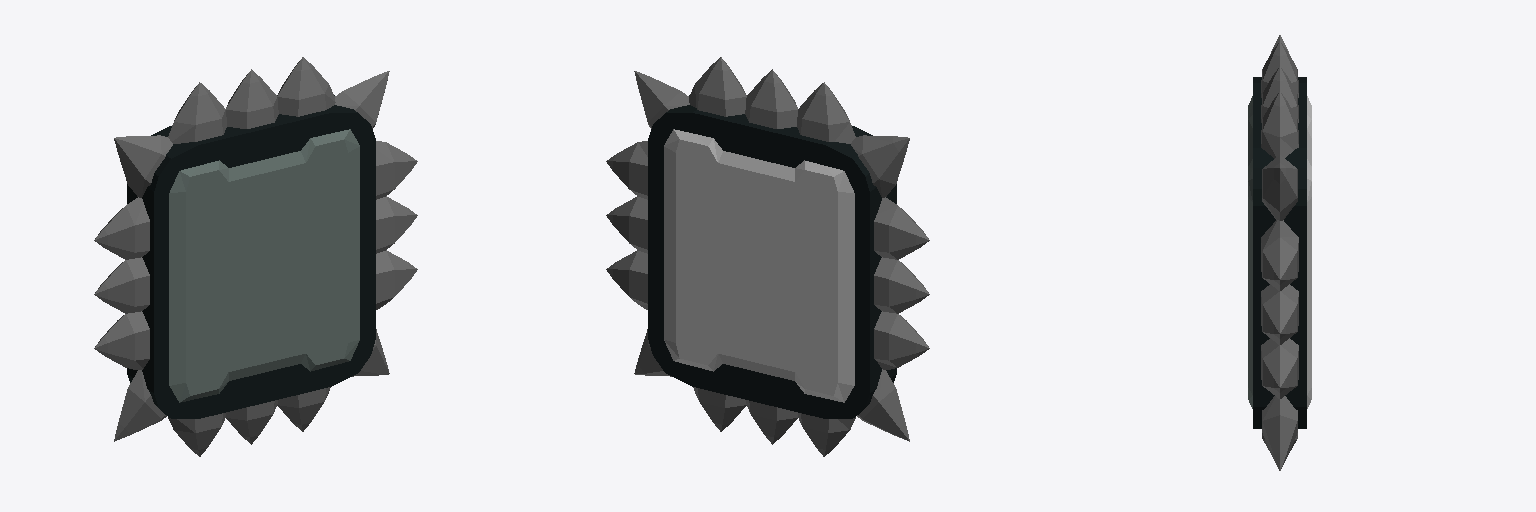
The model's file is Thwomp.obj.
The picture shows the model from 3 angles: view 1: azimuth 30°, elevation 25°; view 2: azimuth 150°, elevation 25°; view 3: azimuth 270°, elevation 25°; orthographic projection.
Parts seen in each view (by area): view 1: Box001_02_-_Default_0, Box001_08_-_Default_0, Box001_03_-_Default_0; view 2: Box001_07_-_Default_0, Box001_08_-_Default_0, Box001_03_-_Default_0; view 3: Box001_08_-_Default_0, Box001_03_-_Default_0, Box001_07_-_Default_0, Box001_02_-_Default_0.
Boxes of the visible parts, <box> form: Box001_02_-_Default_0: <box>169,129,359,402</box>; Box001_08_-_Default_0: <box>94,57,417,456</box>; Box001_03_-_Default_0: <box>127,95,375,418</box>; Box001_07_-_Default_0: <box>664,129,854,402</box>; Box001_08_-_Default_0: <box>606,57,929,456</box>; Box001_03_-_Default_0: <box>648,95,896,418</box>; Box001_08_-_Default_0: <box>1261,35,1298,470</box>; Box001_03_-_Default_0: <box>1253,77,1306,428</box>; Box001_07_-_Default_0: <box>1307,96,1311,408</box>; Box001_02_-_Default_0: <box>1248,96,1252,408</box>.
Size of the model in its own units: 1894 by 2096 by 321.